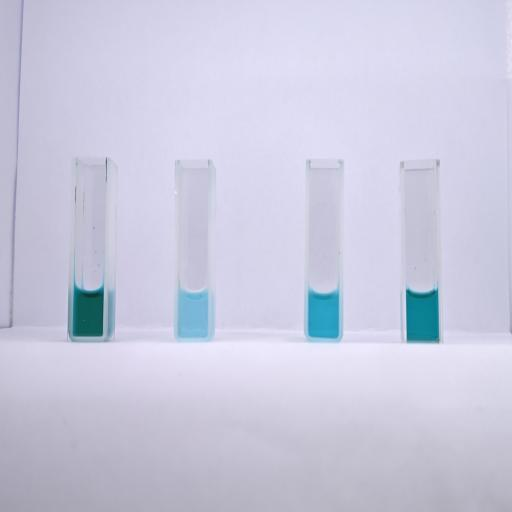cuvette: (65, 154, 113, 344), (398, 156, 444, 346), (172, 158, 215, 342), (302, 156, 344, 344)
liquid: (406, 290, 438, 343), (73, 287, 103, 337), (178, 289, 208, 337), (308, 289, 338, 337)
